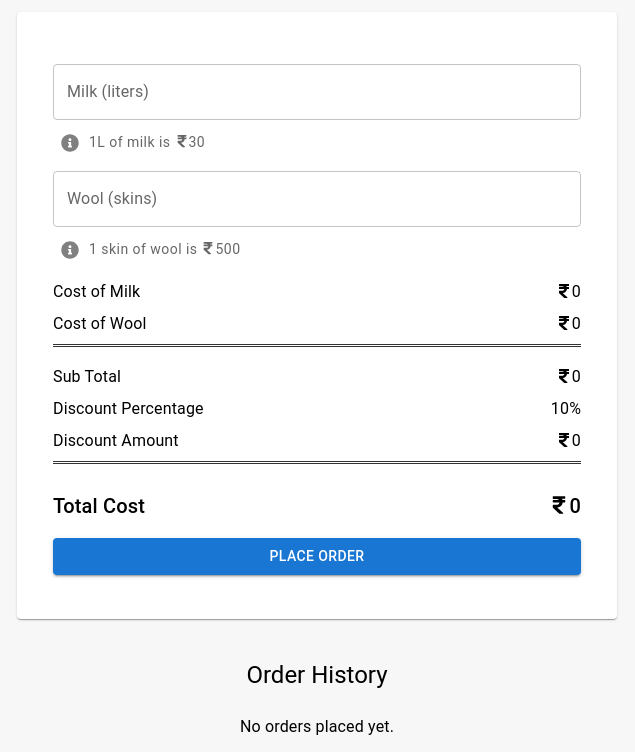
Test: OrderForm › shows error message when fields are empty
Click the button "Place Order" at (317, 556), box [53,538,581,574]
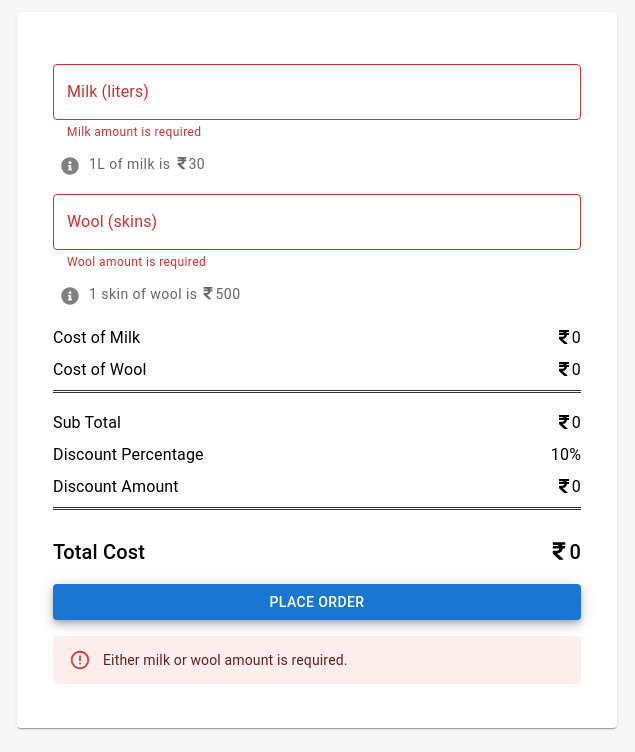
Result: the text "Either milk or wool amount is required." is shown at [103,652,348,668]
